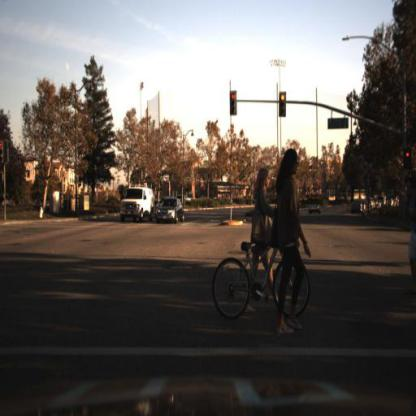biker: (245, 144, 279, 324)
car: (119, 182, 158, 233), (156, 193, 187, 228), (302, 191, 326, 225), (350, 197, 369, 219), (351, 197, 364, 216)
pedestrian: (271, 125, 313, 330), (403, 171, 416, 326)
trafficLight-Red: (278, 87, 289, 123), (402, 144, 414, 174)
trafficLight-RedLeft: (228, 84, 239, 120)
